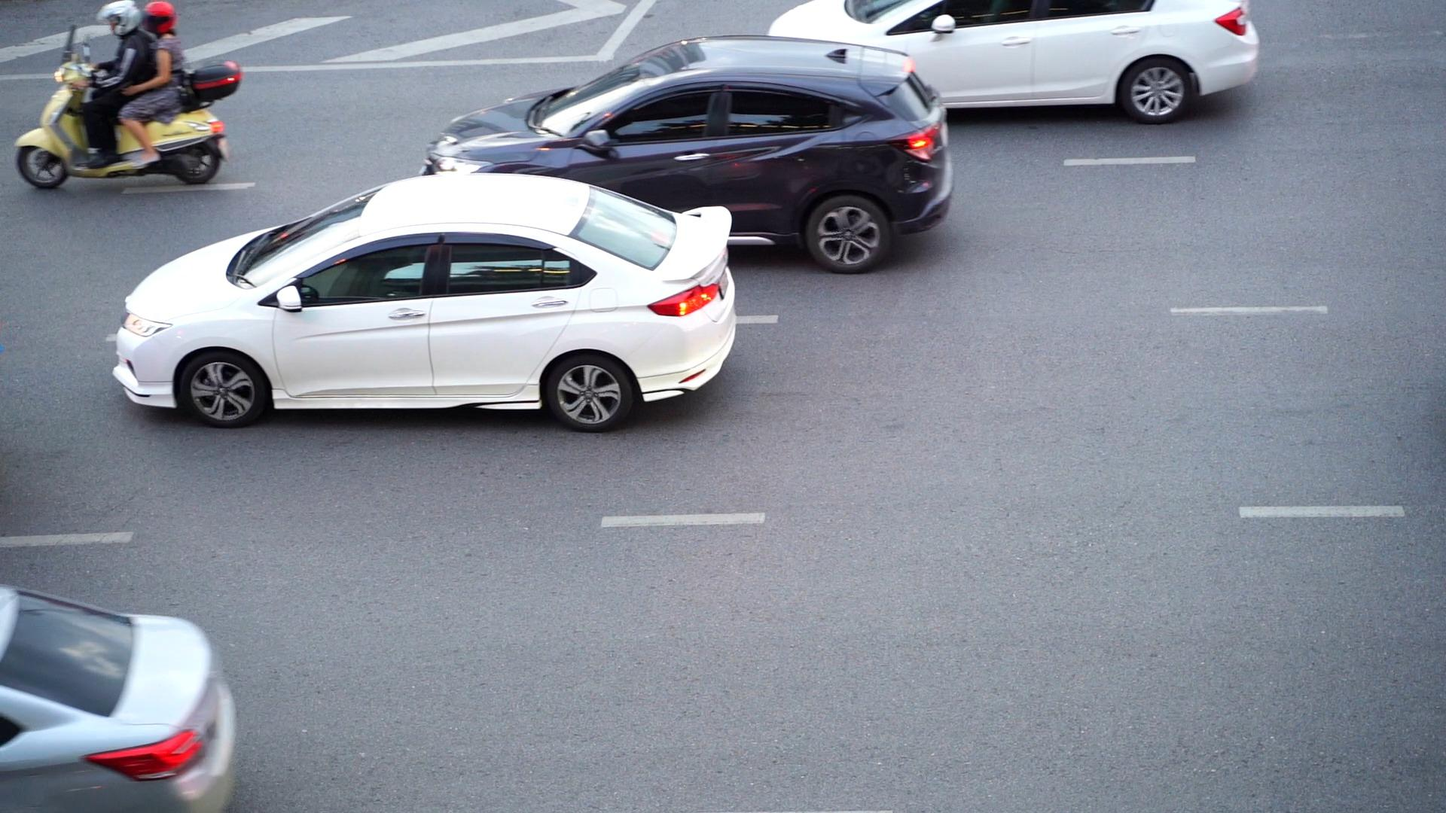driver: (14, 0, 241, 189)
helmet: (95, 0, 142, 37), (142, 1, 178, 34)
